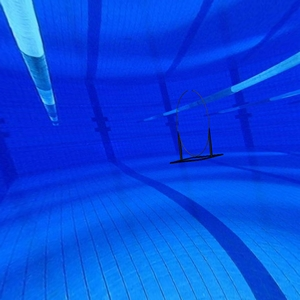circle: (169, 89, 225, 165)
